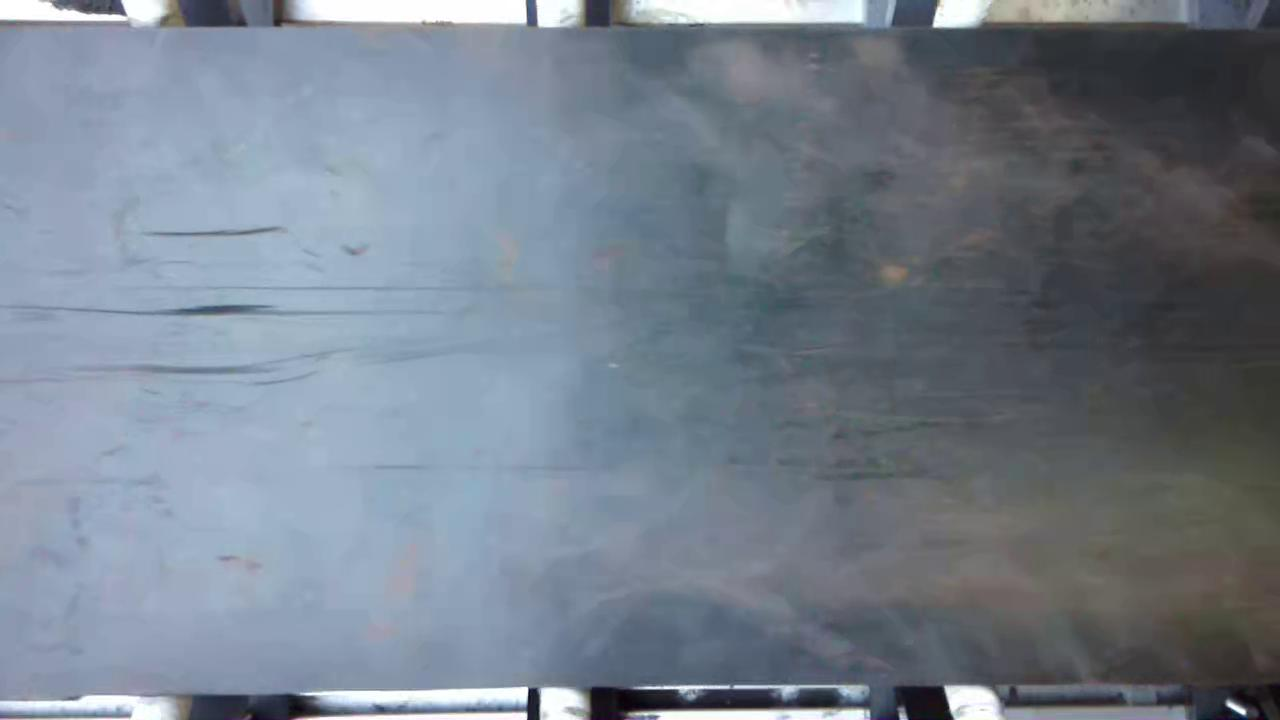conveyor: (0, 35, 1280, 688)
